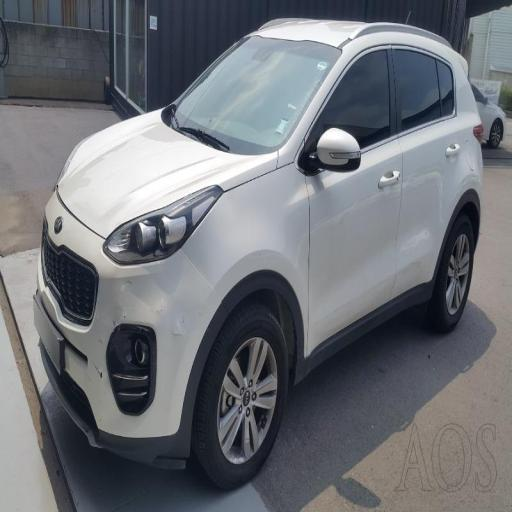dent: (92, 201, 222, 375)
